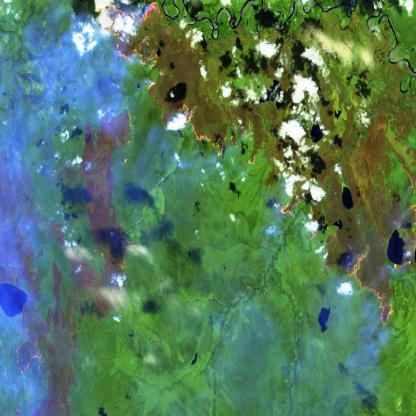fire: (319, 236, 402, 330), (94, 5, 176, 97), (177, 100, 271, 174), (90, 223, 134, 286), (303, 198, 335, 259), (272, 178, 305, 225)
